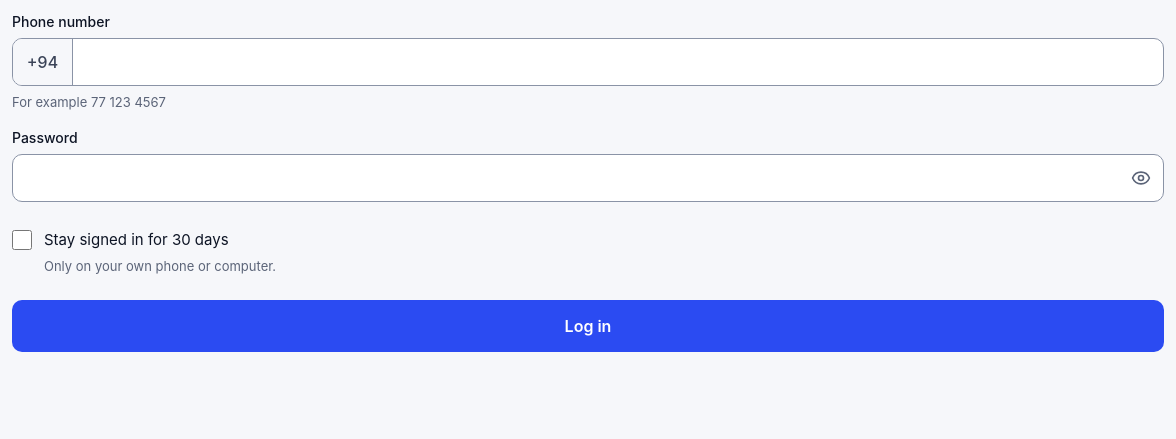
Scenario: StudentLoginForm › uses Retry-After when rate limited
Type "077 123 4567" into the field labelled "Phone number" at (618, 62), box [73,39,1163,85]
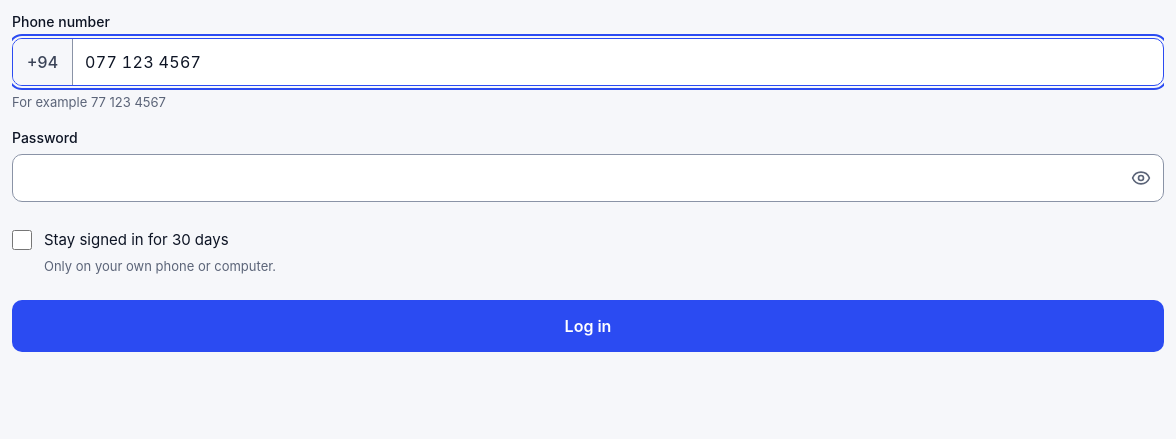
Type "correct-horse" into the password field labelled "Password" at (566, 178), box [13,155,1119,201]
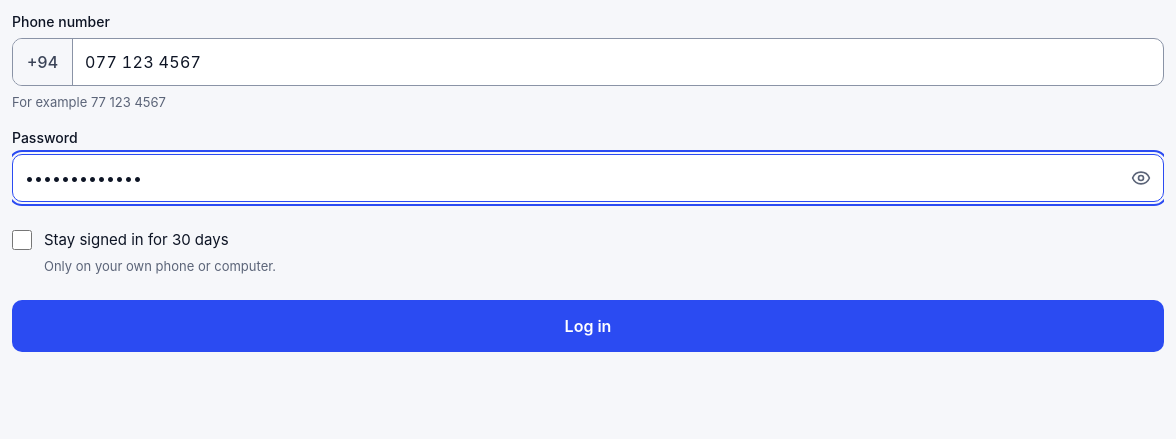
Click the button "Log in" at (588, 326), box [12,300,1164,352]
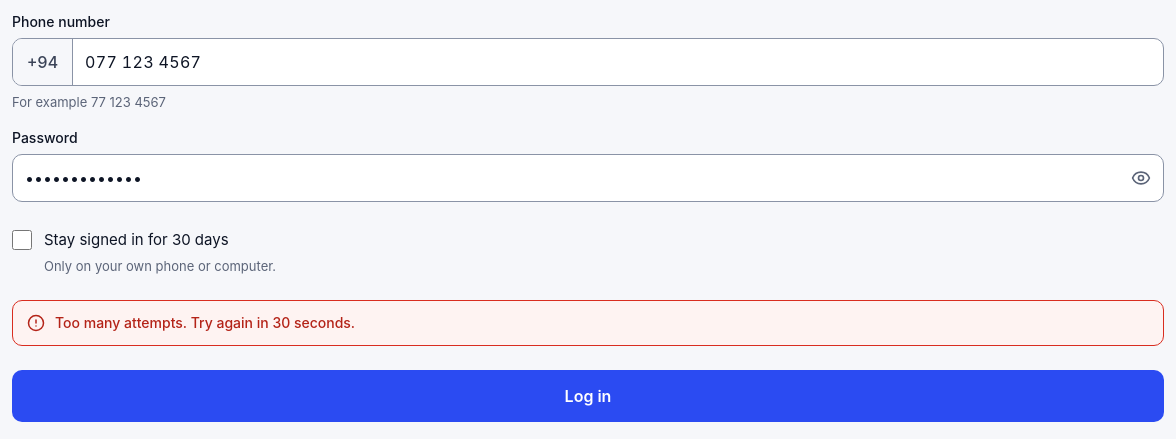
Result: the message reads "Too many attempts. Try again in 30 seconds." at [55,314,355,331]
